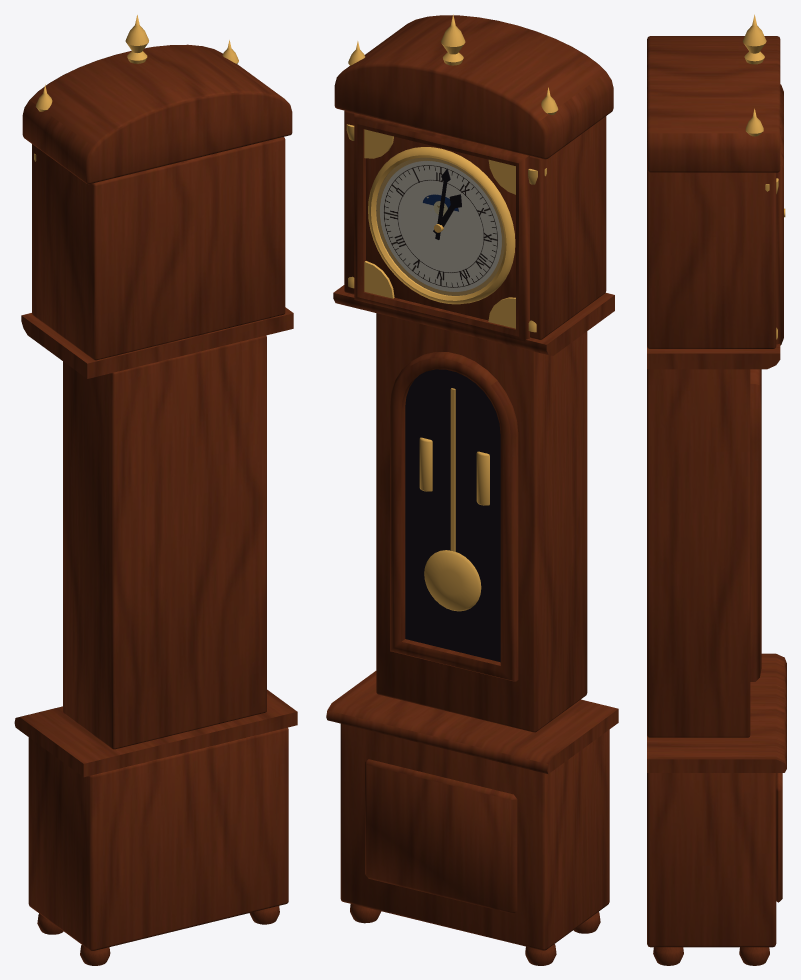
File: manor_clock.glb
The picture shows the model from 3 angles, left to right: view 1: azimuth 30°, elevation 25°; view 2: azimuth 150°, elevation 25°; view 3: azimuth 270°, elevation 25°; orthographic projection. The views are drawn at different scales.
Parts seen in each view (by area): view 1: Clock; view 2: Clock; view 3: Clock.
Part boxes in pixels (bbox=[...]): Clock: bbox=[14, 15, 297, 965]; Clock: bbox=[326, 14, 618, 965]; Clock: bbox=[647, 14, 786, 965].
Size of the model in its own units: 0.58 by 2.32 by 0.325.
Materials: 6 (2 with a texture image).
